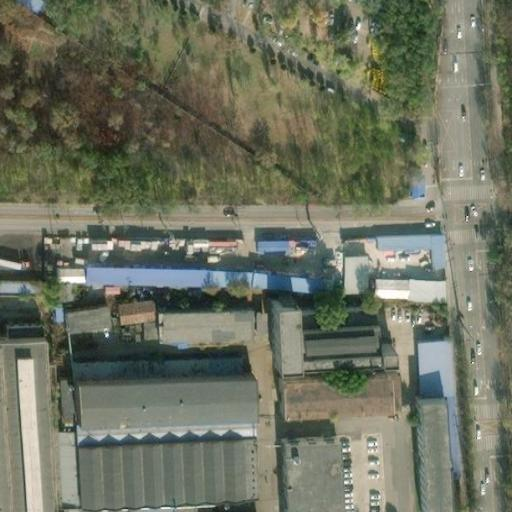building: (69, 431, 247, 509), (69, 367, 241, 429), (408, 335, 455, 471), (272, 369, 392, 416), (67, 347, 229, 380), (289, 317, 387, 369), (67, 416, 242, 445), (406, 395, 446, 512), (277, 440, 336, 512), (79, 230, 225, 259), (57, 258, 239, 280), (147, 299, 245, 334), (374, 230, 444, 270), (264, 301, 292, 371), (239, 259, 326, 281), (366, 271, 439, 297), (287, 301, 367, 323), (248, 232, 310, 260), (57, 303, 102, 329), (325, 246, 358, 281), (110, 292, 148, 317), (73, 502, 168, 512), (0, 277, 36, 294), (0, 249, 28, 268)
